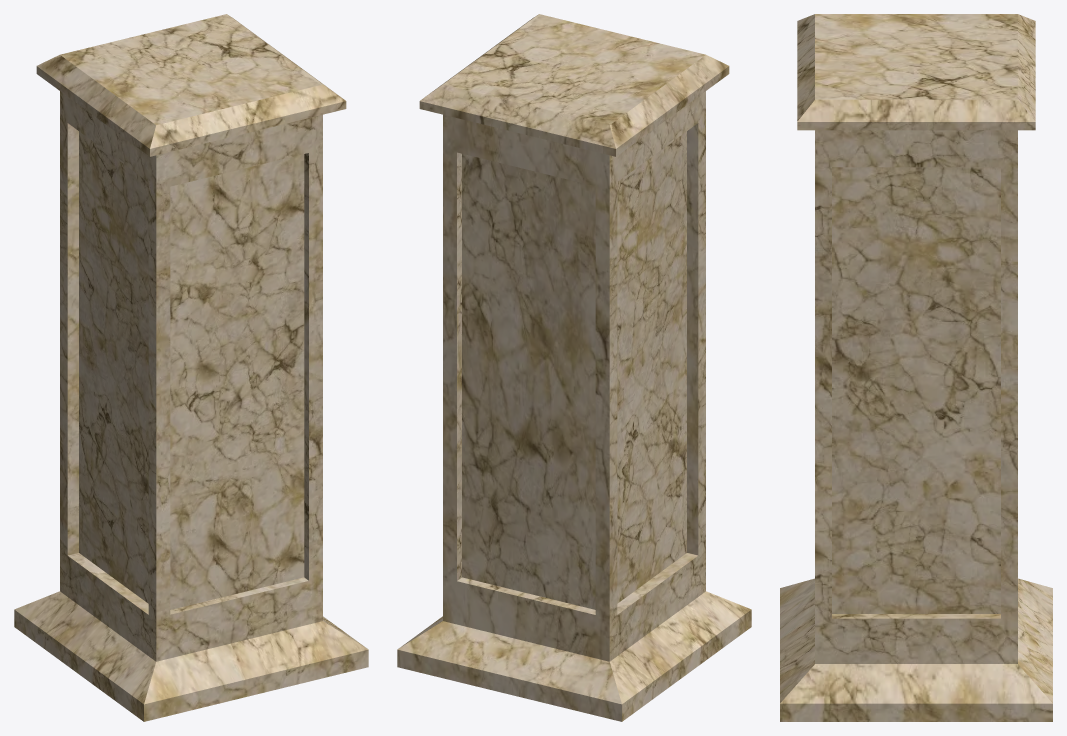
Rendered from pillar-transformed.glb.
The picture shows the model from 3 angles, left to right: view 1: azimuth 30°, elevation 25°; view 2: azimuth 150°, elevation 25°; view 3: azimuth 270°, elevation 25°; orthographic projection. The views are drawn at different scales.
Parts seen in each view (by area): view 1: defaultMaterial; view 2: defaultMaterial; view 3: defaultMaterial.
Part boxes in pixels (x1,y1,x2,y2): defaultMaterial: (14, 14, 368, 721); defaultMaterial: (397, 14, 751, 721); defaultMaterial: (780, 14, 1052, 721).
Bounding box in the file's own units: 0.8144 × 2 × 0.8144.
Materials: 1 (1 with a texture image).
